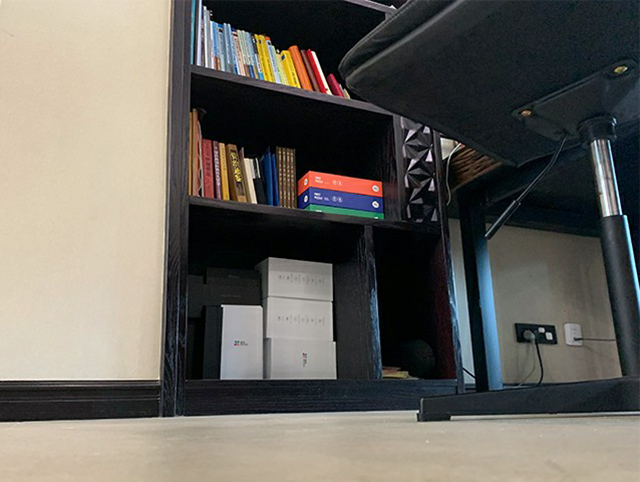cabinet: (161, 132, 462, 415)
stool: (336, 1, 640, 422)
wire: (509, 321, 618, 384)
